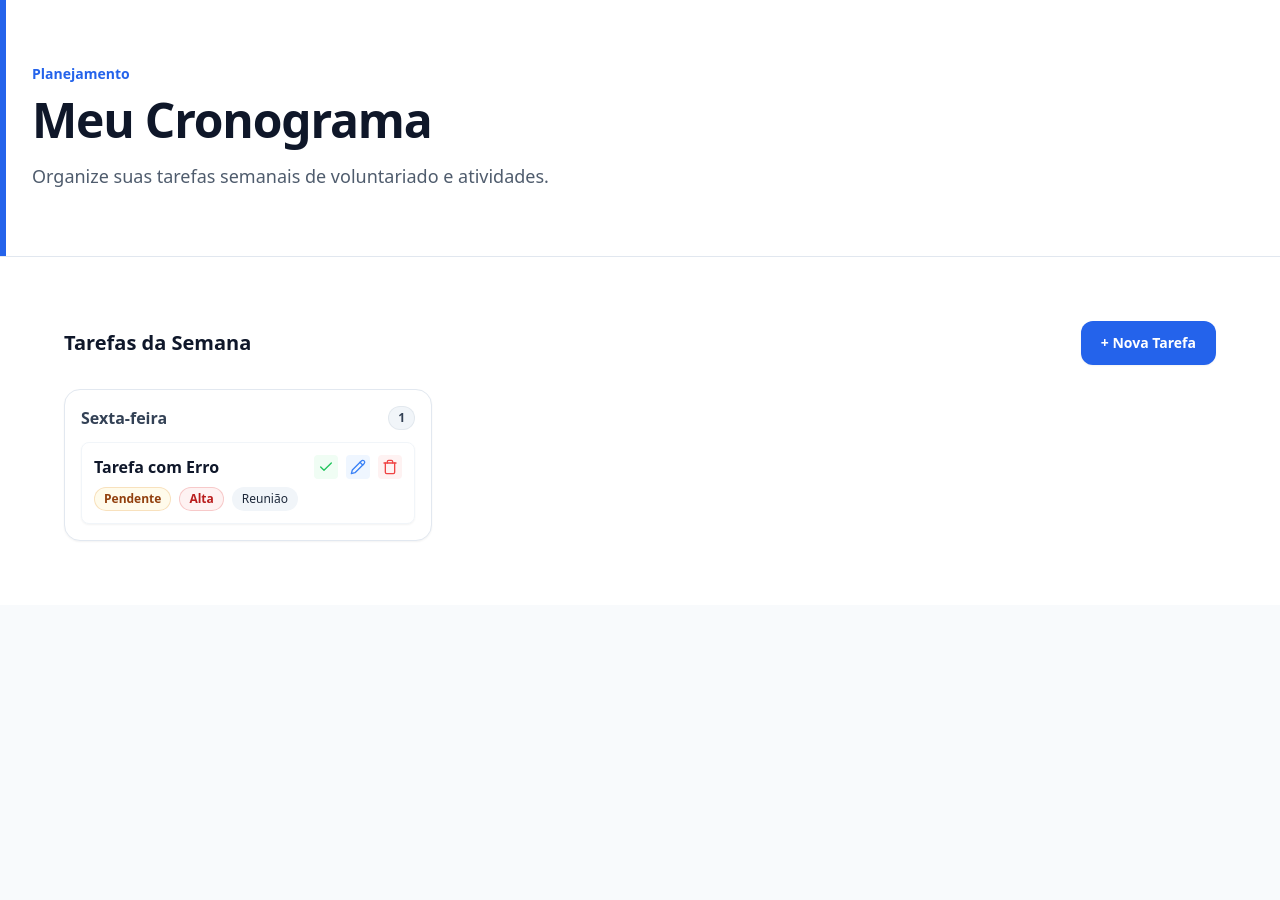
Test case: Cronograma › deve avisar quando a confirmação da tarefa falhar
Check: the heading "Tarefa com Erro" is shown, box [94,455,219,479]
Click the button titled "Marcar como concluída". click: coordinates (326, 467)
box: [314,455,338,479]
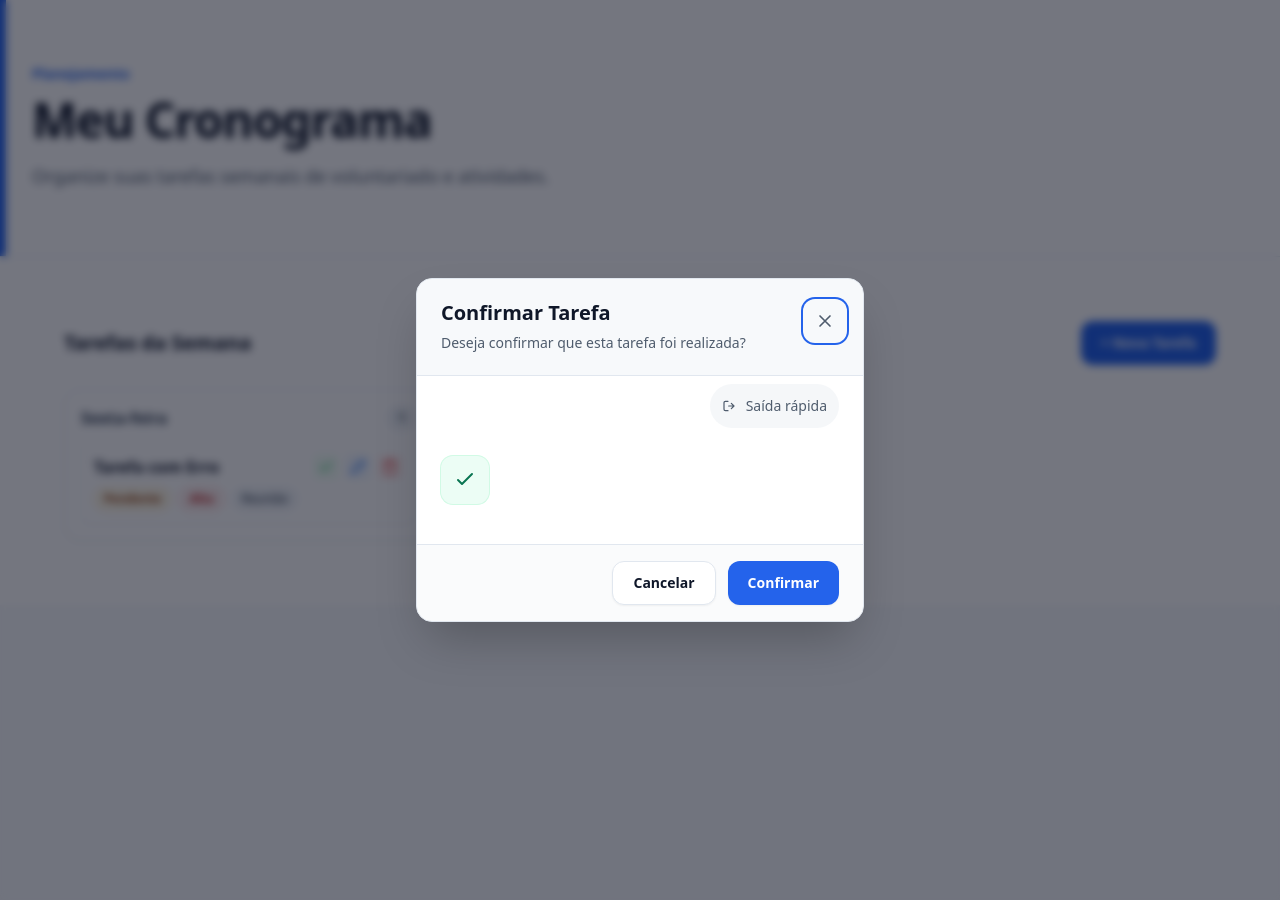
Click the button "Confirmar". click: coordinates (783, 583)
box: [728,561,839,605]
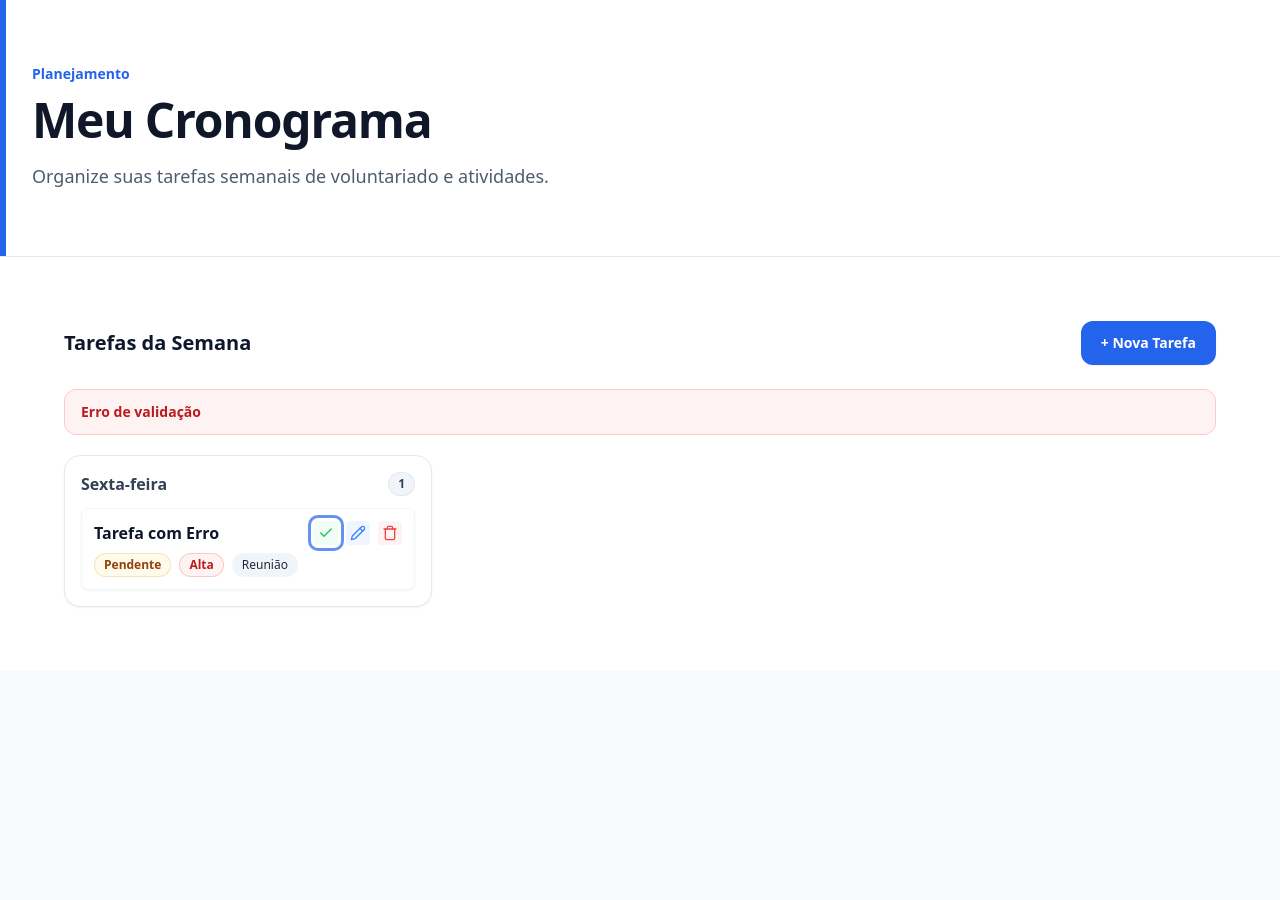
Check: the message reads "Erro de validação", box [81,402,201,421]
